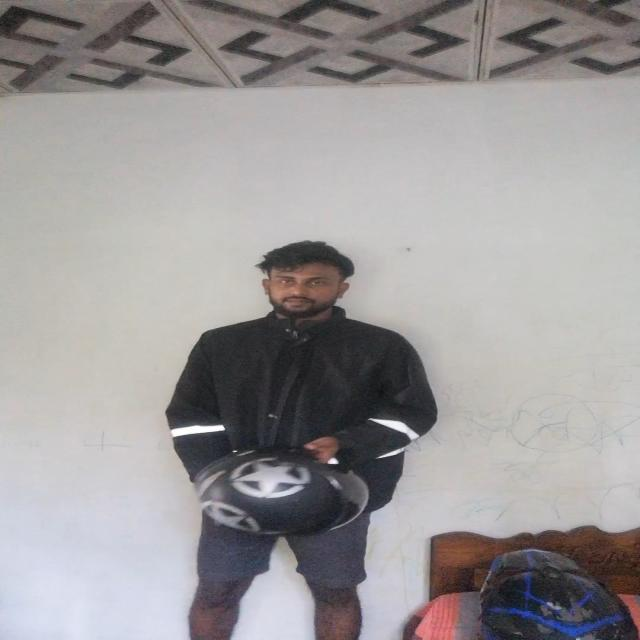Jacket_Wearer: (172, 301, 434, 520)
Person: (170, 230, 442, 640)
